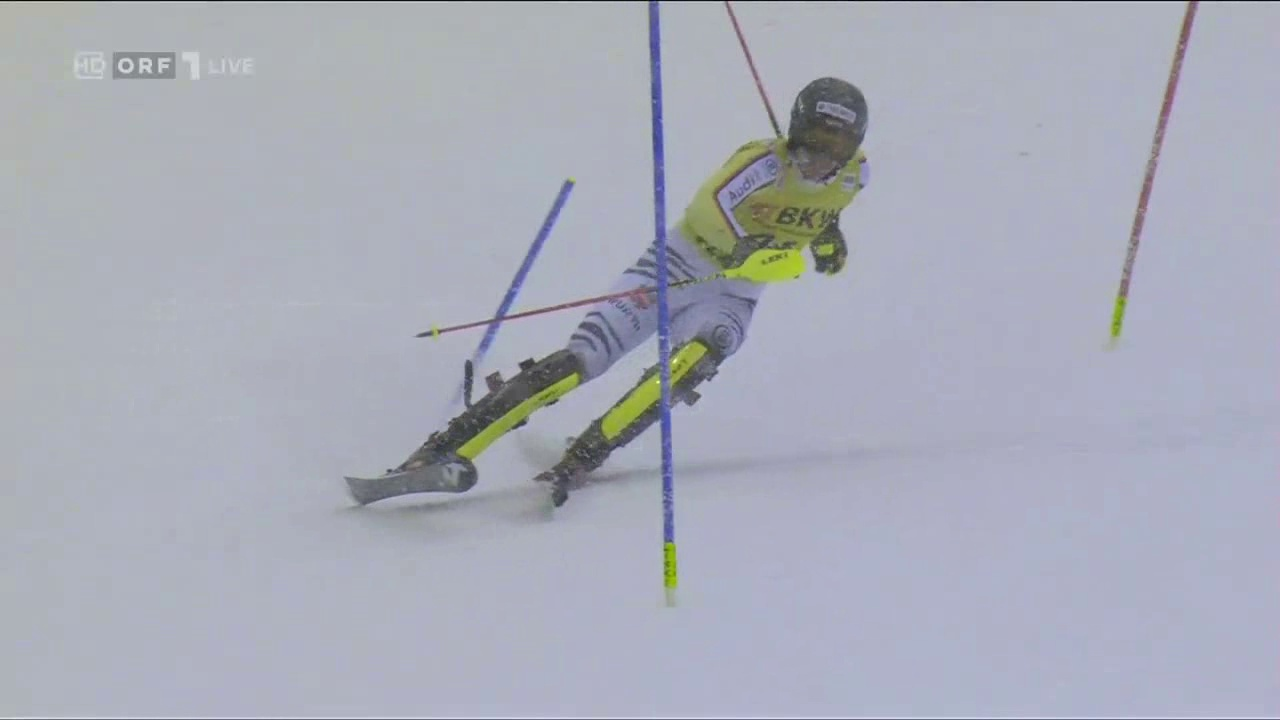rauch: (762, 195, 845, 236)
